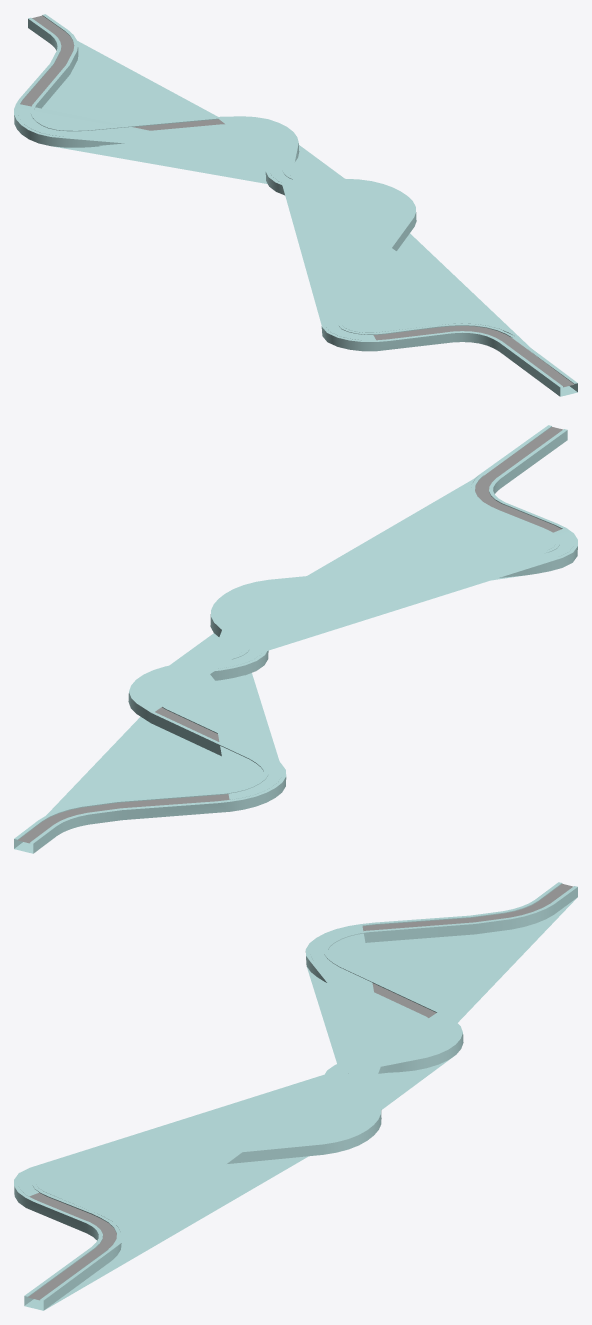
File: crooked2.fbx
The picture shows the model from 3 angles, top to bottom: view 1: azimuth 30°, elevation 25°; view 2: azimuth 150°, elevation 25°; view 3: azimuth 330°, elevation 25°; orthographic projection. The views are drawn at different scales.
Visible parts, largest first — view 1: crooked2; view 2: crooked2; view 3: crooked2.
Part boxes in pixels (x1,y1,x2,y2): crooked2: (14,14,577,396); crooked2: (14,425,577,853); crooked2: (14,882,577,1310).
Size of the model in its own units: 2479 by 111 by 10125.
